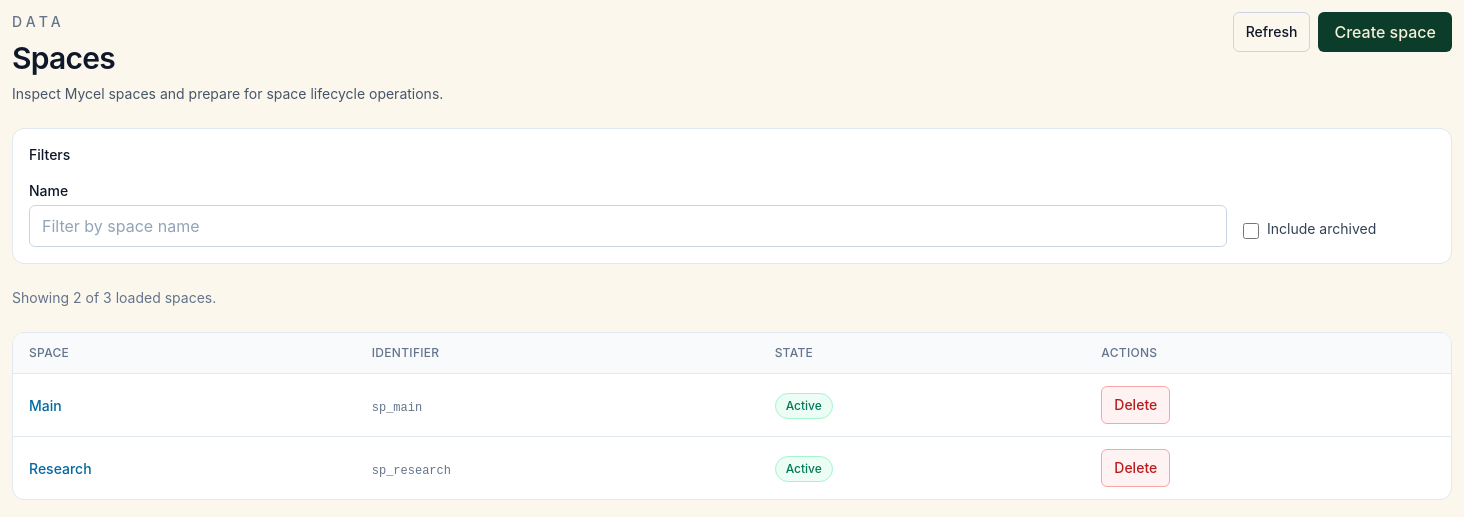
Test: filters by name
Expected: the link "Main" is shown, x1=29 y1=397 x2=62 y2=414
Type "Research" into the field labelled "Name".
click(628, 226); type("Research")  # box x1=29 y1=205 x2=1227 y2=247
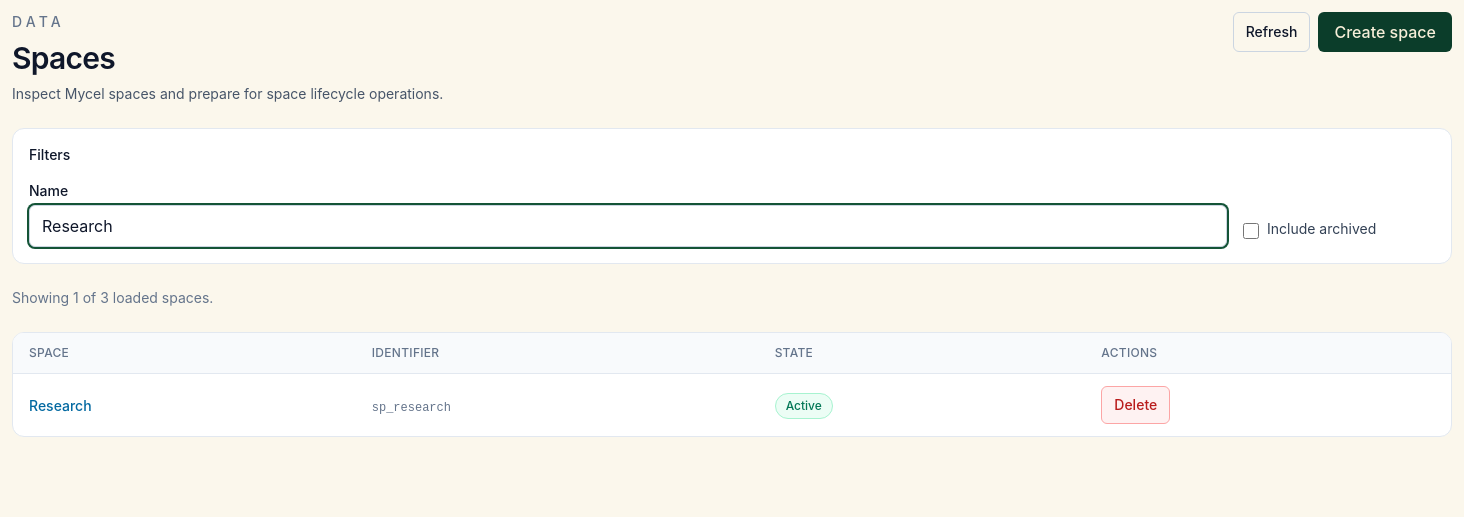
Expected: the link "Research" is shown, x1=29 y1=397 x2=92 y2=414
Now the link "Main" is gone
